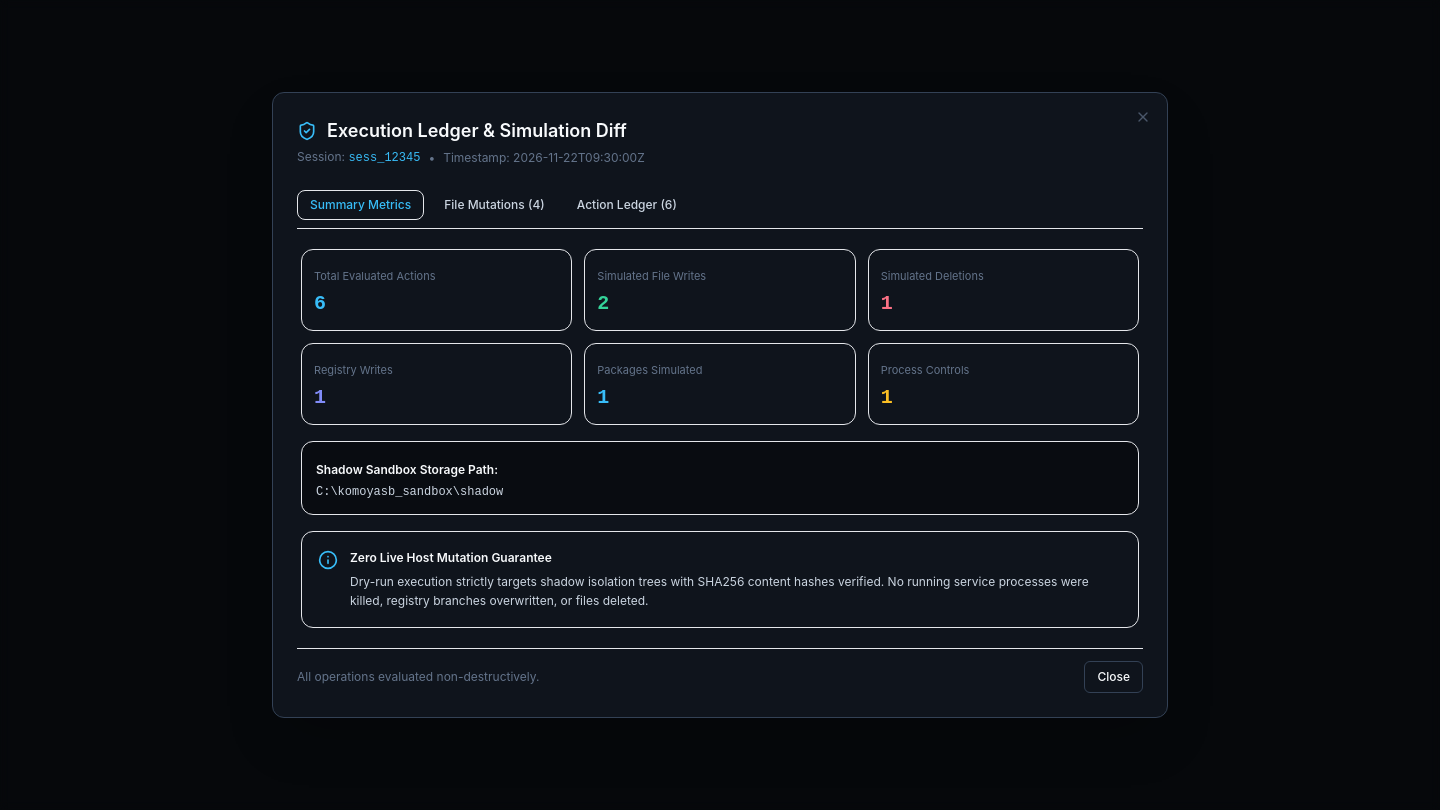
Test: DryRunLedgerModal Component › switches to File Mutations tab and toggles diff expansion
Step 1. Click the button "File Mutations (4)" → (495, 205), box x1=432 y1=191 x2=557 y2=219
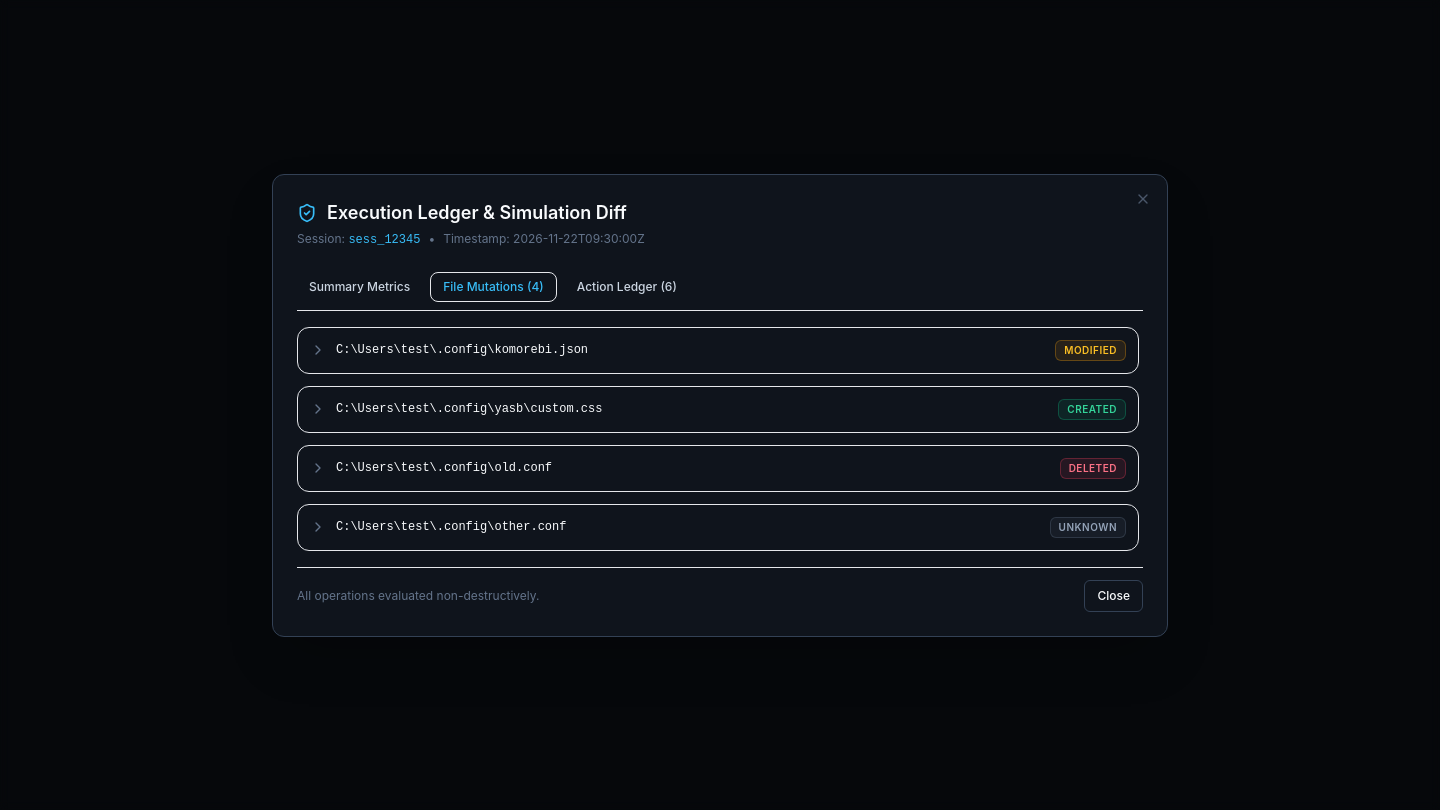
Result: the text "C:\\Users\\test\\.config\\komorebi.json" is shown
Result: the text "Modified" is shown at x1=1055 y1=340 x2=1126 y2=360
Result: the text "Created" is shown at x1=1058 y1=398 x2=1126 y2=420
Expand the first diff
Step 2. Click the text "C:\\Users\\test\\.config\\komorebi.json" → (462, 350), box x1=336 y1=342 x2=588 y2=358
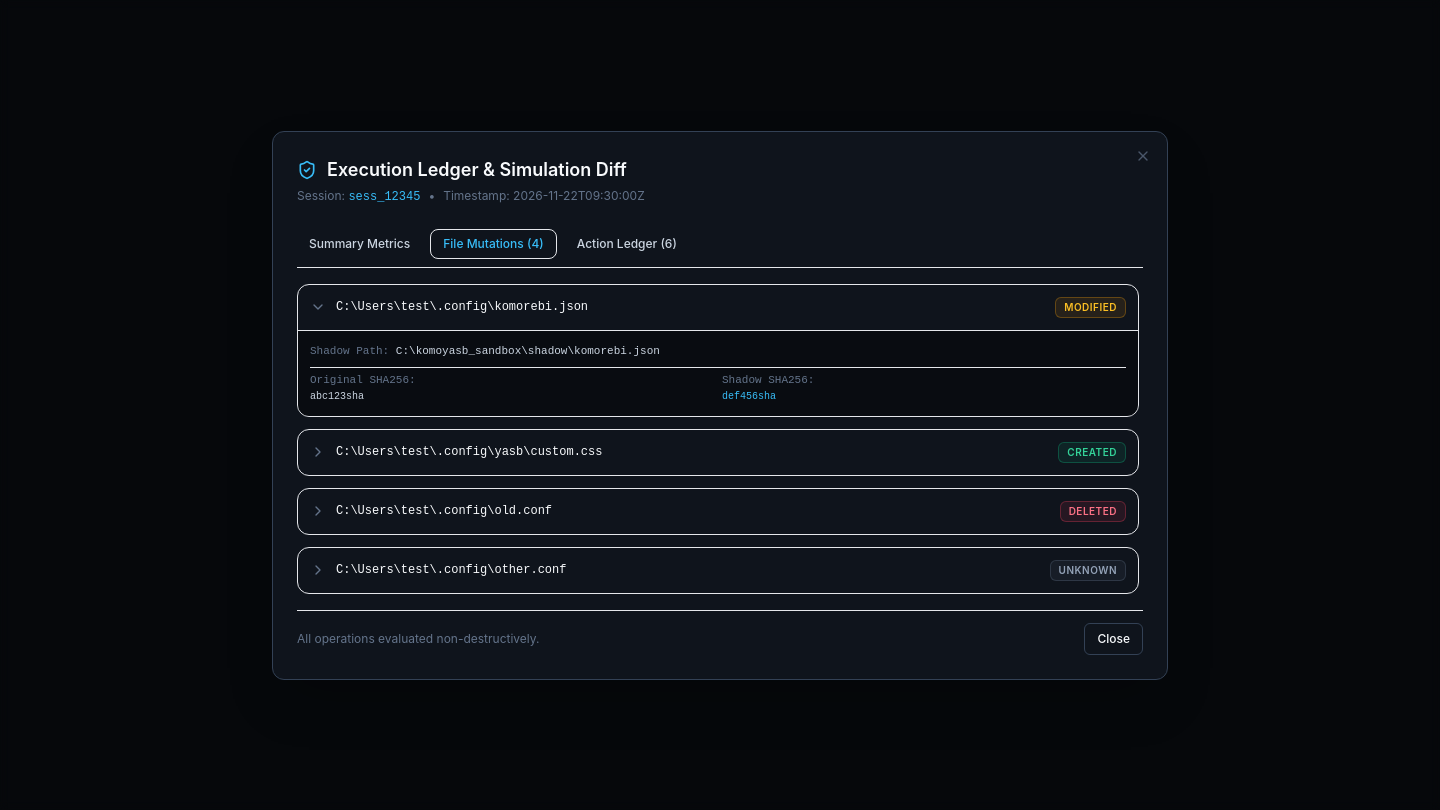
Result: the text "C:\\komoyasb_sandbox\\shadow\\komorebi.json" is shown at x1=396 y1=344 x2=660 y2=356
Result: the text "abc123sha" is shown at x1=310 y1=390 x2=364 y2=402
Result: the text "def456sha" is shown at x1=722 y1=390 x2=776 y2=402
Collapse it
Step 3. Click the text "C:\\Users\\test\\.config\\komorebi.json" → (462, 307), box x1=336 y1=299 x2=588 y2=315
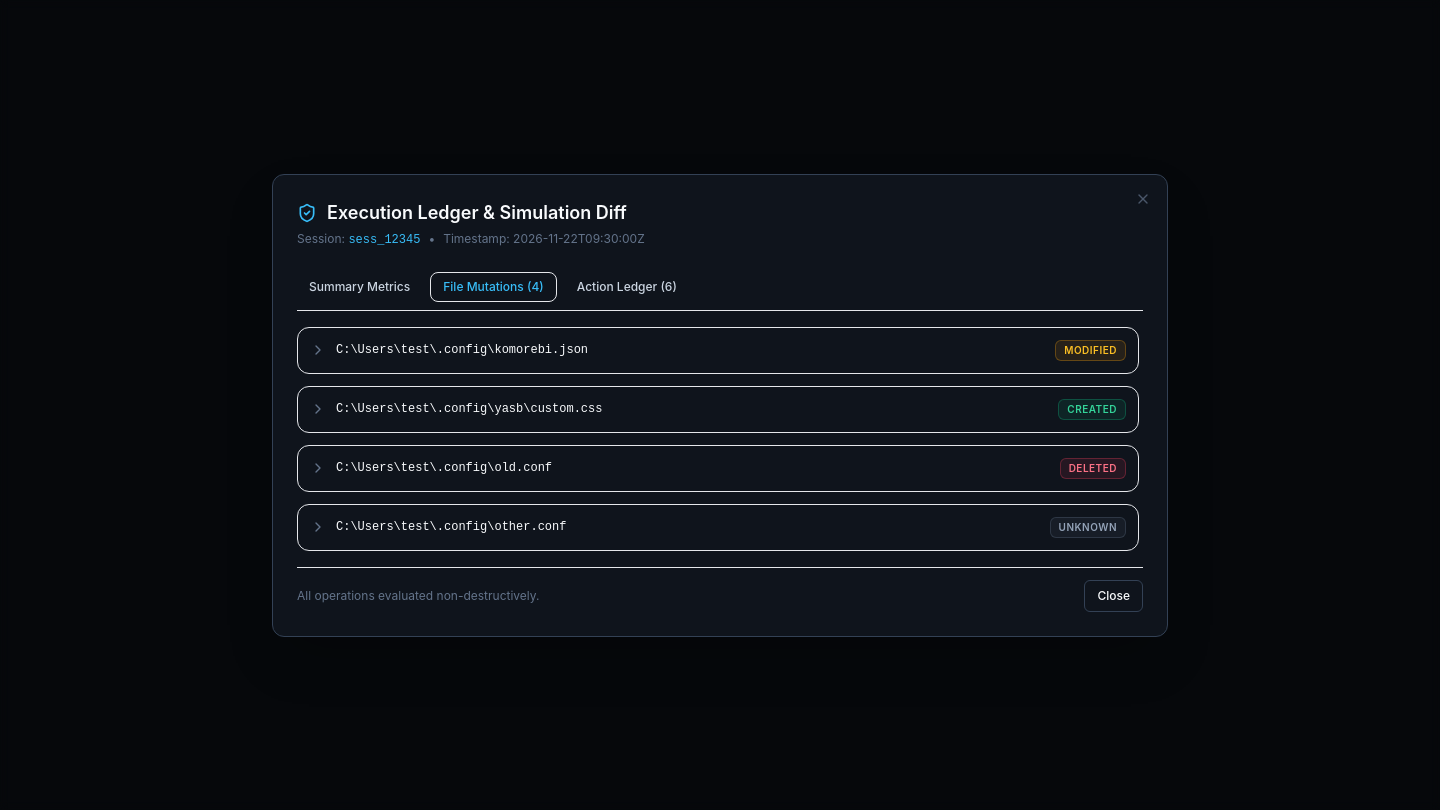
Result: the text "abc123sha" is gone
Expand Created diff to verify None (New file)
Step 4. Click the text "C:\\Users\\test\\.config\\yasb\\custom.css" → (469, 409), box x1=336 y1=401 x2=602 y2=417
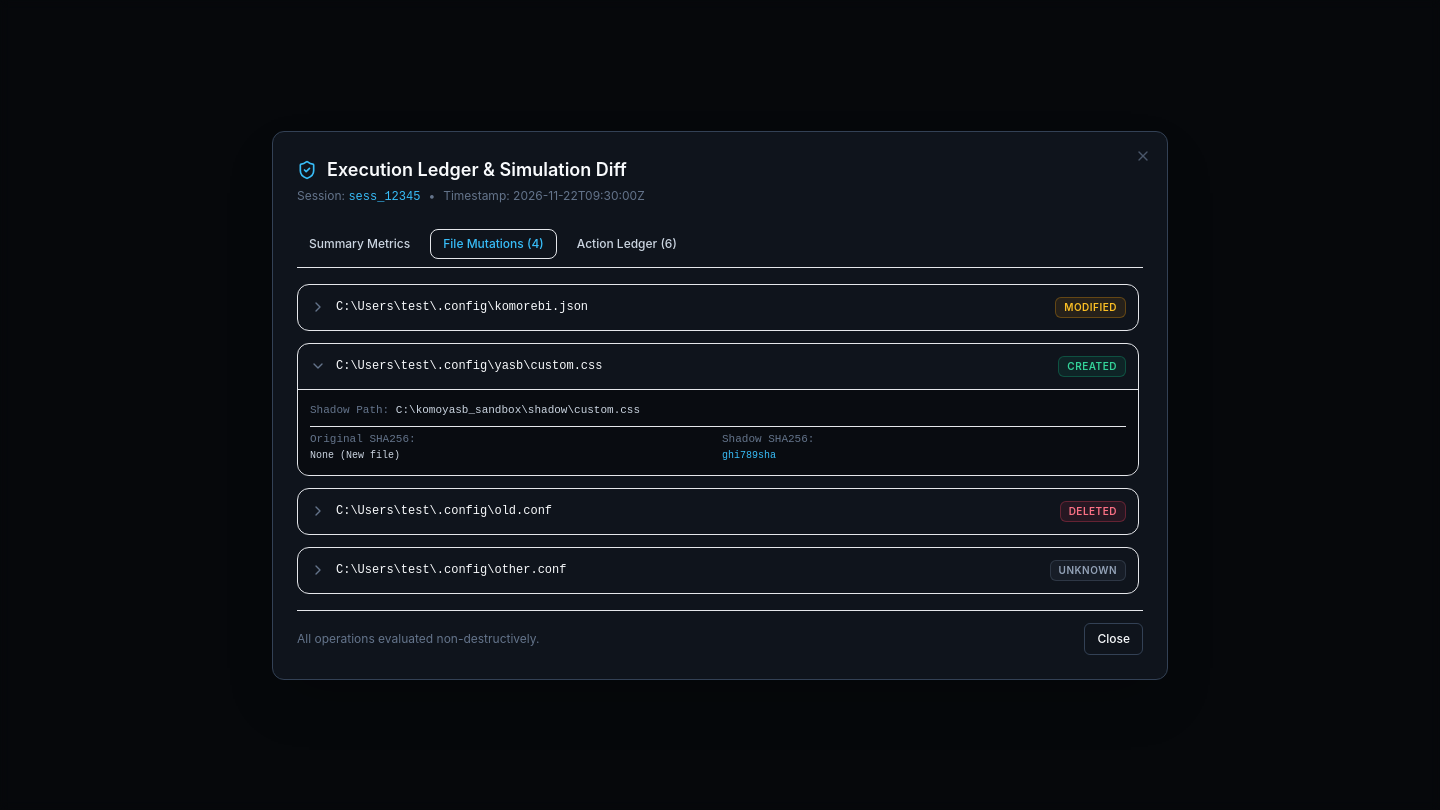
Result: the text "None (New file)" is shown at x1=310 y1=450 x2=400 y2=460
Expand Deleted diff to verify None (Deleted file)
Step 5. Click the text "C:\\Users\\test\\.config\\old.conf" → (444, 511), box x1=336 y1=503 x2=552 y2=519
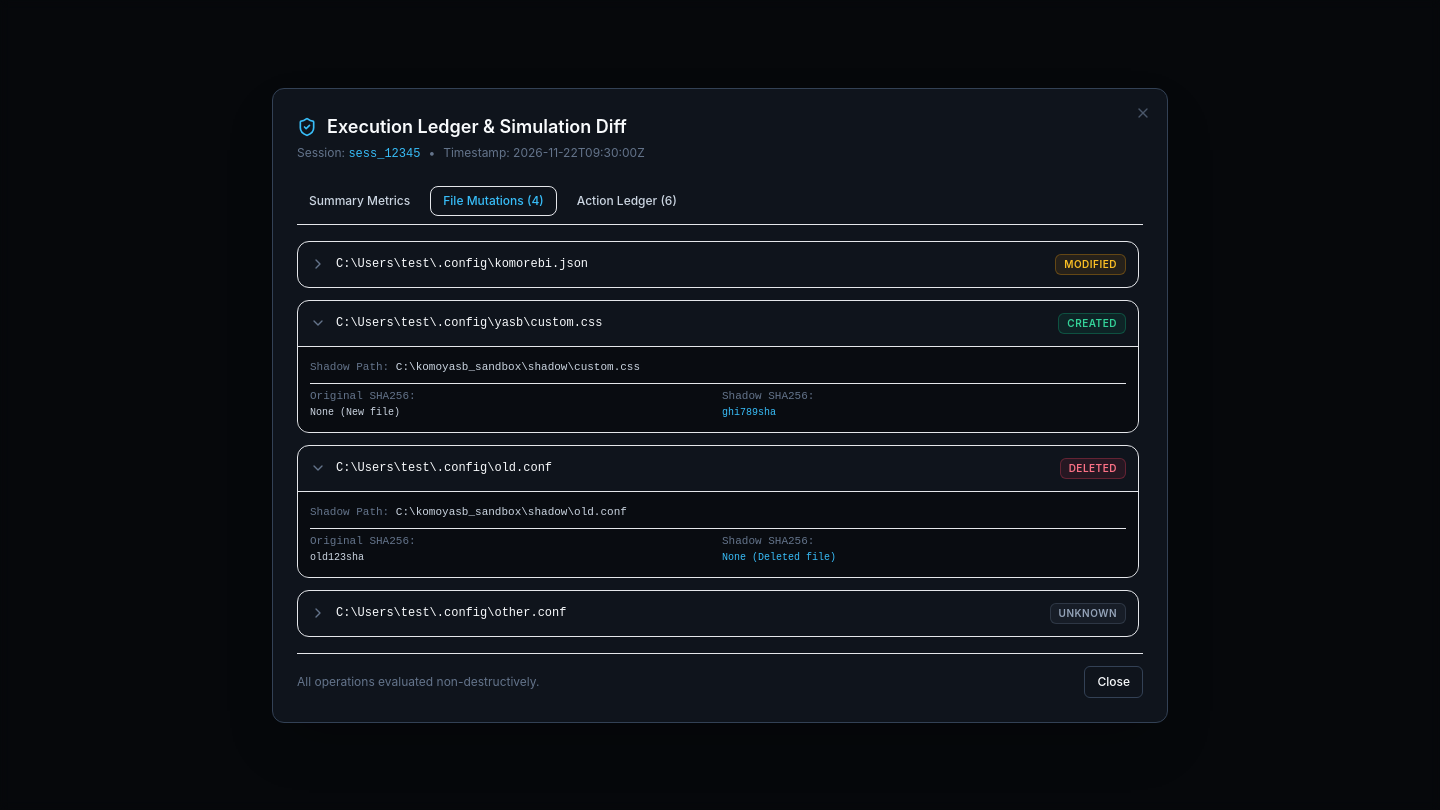
Result: the text "None (Deleted file)" is shown at x1=722 y1=552 x2=836 y2=562
